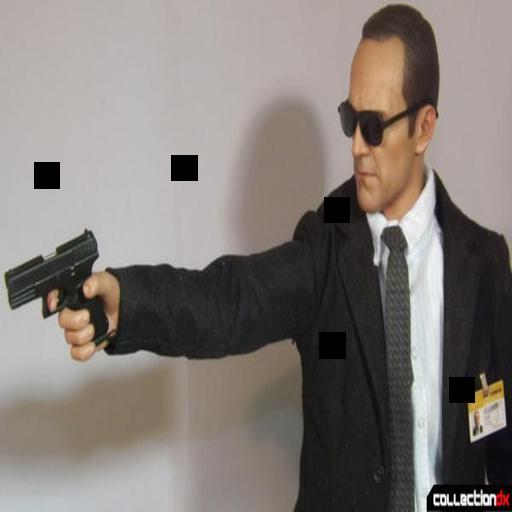Handgun: (0, 224, 106, 354)
